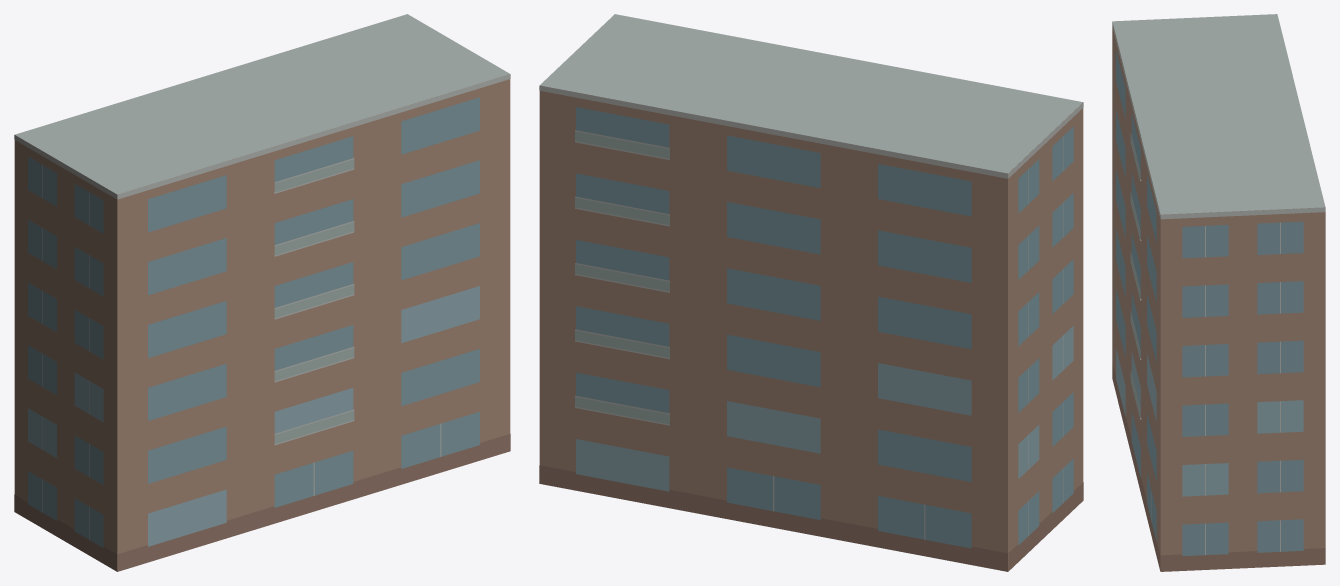
Rendered from survey-upis-32638276.glb.
3 views of the same model, side by side, from view 1: azimuth 30°, elevation 25°; view 2: azimuth 150°, elevation 25°; view 3: azimuth 270°, elevation 25° (orthographic). The views are drawn at different scales.
Parts seen in each view (by area): view 1: survey-upis-32638276.tmp; view 2: survey-upis-32638276.tmp; view 3: survey-upis-32638276.tmp.
Boxes of the visible parts, box(x1,y1,x2,y2) form: survey-upis-32638276.tmp: box(14, 14, 510, 571); survey-upis-32638276.tmp: box(539, 14, 1083, 571); survey-upis-32638276.tmp: box(1112, 14, 1325, 571).
Bounding box in the file's own units: 22.05 × 18.3 × 9.91.
